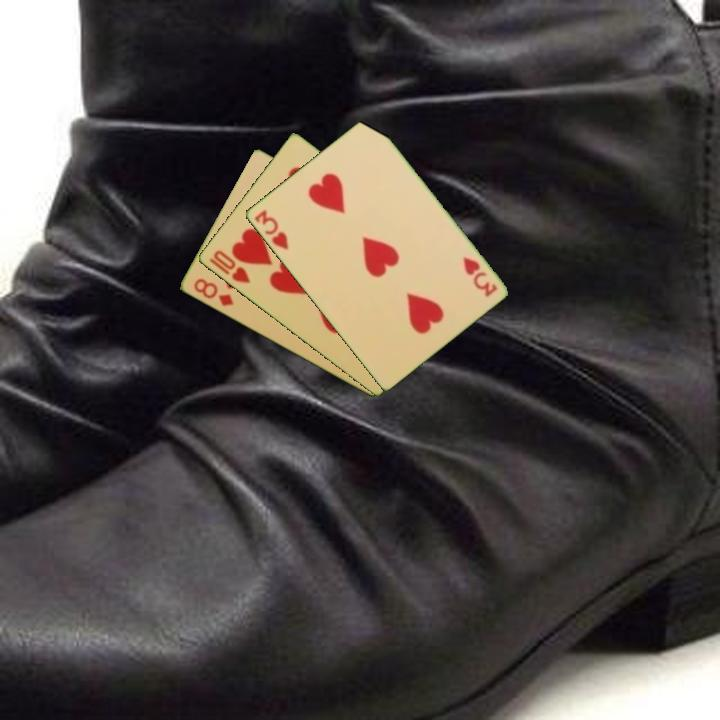10h: (205, 246, 253, 286)
3h: (250, 206, 291, 253), (459, 253, 500, 300)
8d: (190, 275, 236, 309)
